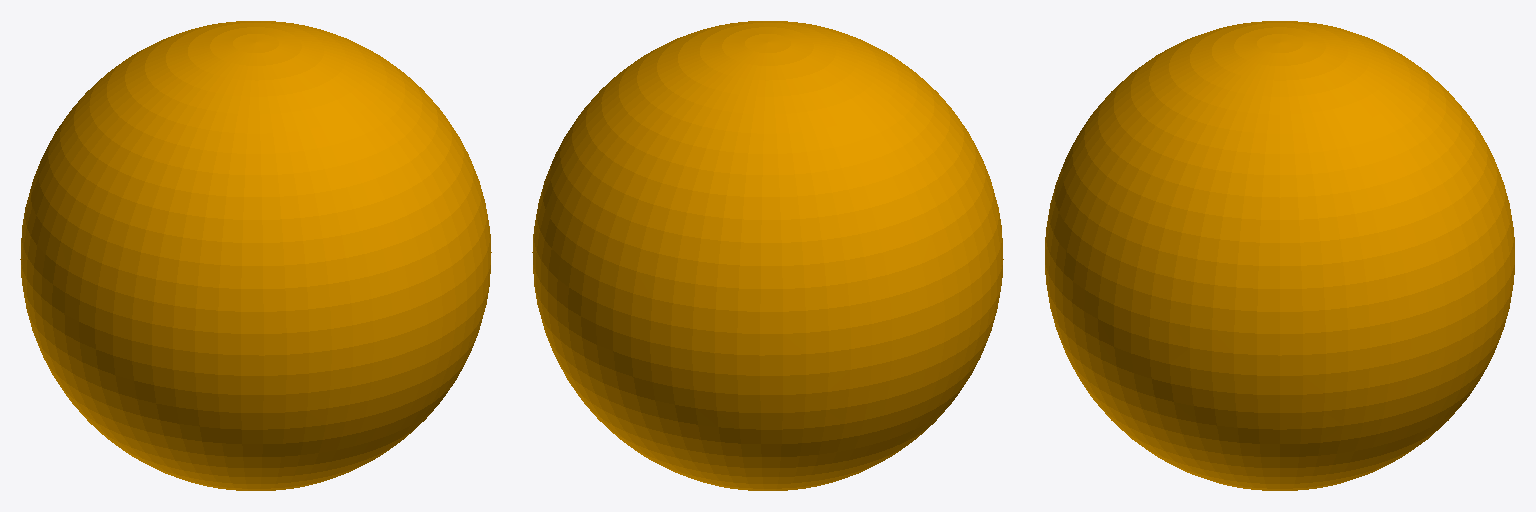
robot.urdf — cricket_ball:
<?xml version="1.0" ?>
<robot name="cricket_ball">
  <link name="base_link">
    <inertial>
      <origin xyz="0 0 0.0355" rpy="0 0 0"/>
      <mass value="0.159"/>
      <inertia ixx="0.0001335865" ixy="0" ixz="0" iyy="0.0001335865" iyz="0" izz="0.0001335865"/>
    </inertial>
    <visual name="visual">
      <origin xyz="0 0 0" rpy="0 0 0"/>
      <geometry>
        <mesh filename="meshes/visual.obj" scale="1 1 1"/>
      </geometry>
    </visual>
    <collision name="sphere">
      <origin xyz="0 0 0" rpy="0 0 0"/>
      <geometry>
        <mesh filename="meshes/collision/sphere.obj" scale="1 1 1"/>
      </geometry>
    </collision>
  </link>
</robot>

--- What the picture shows (computed from the rendered views, not written in the file) ---
Views: 3 orthographic renders of the robot side by side, from view 1: azimuth 30°, elevation 25°; view 2: azimuth 150°, elevation 25°; view 3: azimuth 270°, elevation 25°.
Robot: cricket_ball — 1 links, 0 joints (none); root link base_link; default pose: all joints at 0.
Links seen in each view (by area): view 1: base_link; view 2: base_link; view 3: base_link.
Boxes of the visible links, x1=… form: base_link: x1=20, y1=21, x2=491, y2=490; base_link: x1=532, y1=21, x2=1003, y2=490; base_link: x1=1045, y1=21, x2=1514, y2=490.
Bounding box of the posed robot: 0.071 × 0.071 × 0.071 m (x, y, z).
Meshes: 1 distinct files referenced, 1 mesh visuals loaded (1 OBJ).
